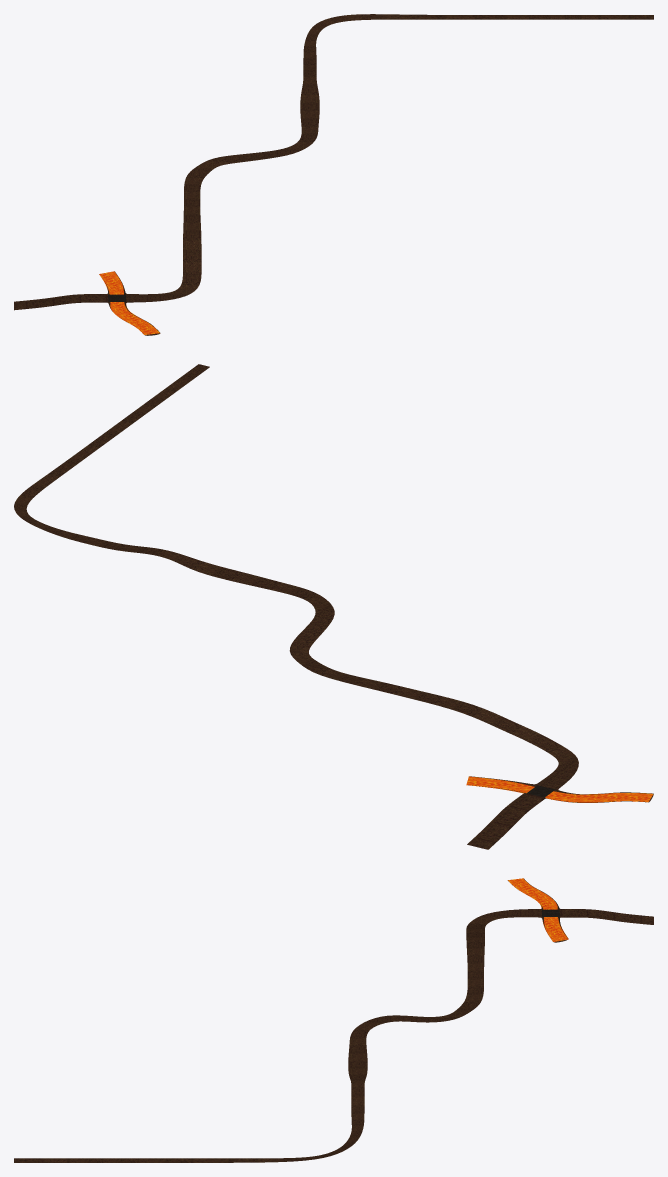
File: Volcano_Track.glb
The picture shows the model from 3 angles, top to bottom: view 1: azimuth 90°, elevation 25°; view 2: azimuth 150°, elevation 25°; view 3: azimuth 270°, elevation 25°; orthographic projection. The views are drawn at different scales.
Visible parts, largest first — view 1: Level, Plane; view 2: Level, Plane; view 3: Level, Plane.
Boxes of the visible parts, x1=… form: Level: x1=14, y1=14, x2=653, y2=335; Plane: x1=99, y1=271, x2=159, y2=334; Level: x1=14, y1=364, x2=653, y2=849; Plane: x1=466, y1=776, x2=653, y2=802; Level: x1=14, y1=879, x2=653, y2=1162; Plane: x1=508, y1=878, x2=568, y2=941.
Size of the model in its own units: 424 by 20.73 by 379.
Materials: 3 (3 with a texture image).
